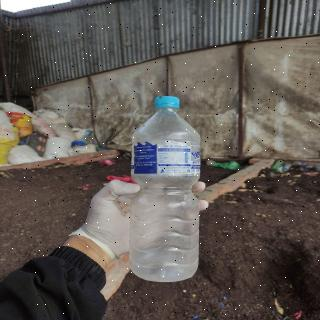Plastic-bottle: (122, 92, 206, 286)
